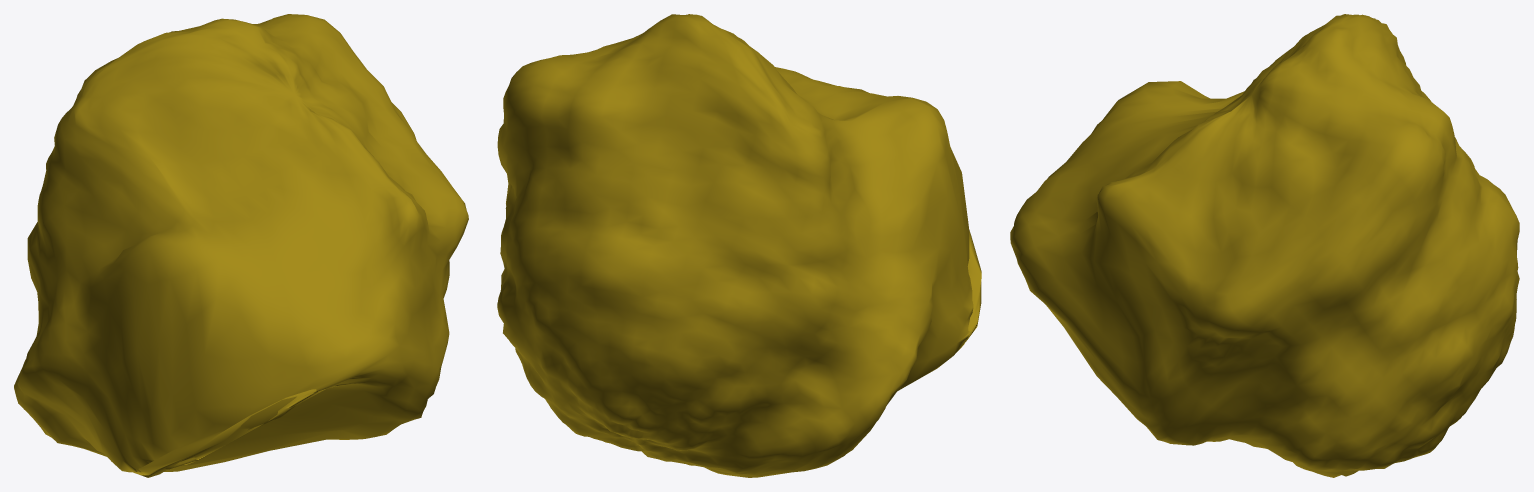
File: asteroid.fbx
3 views of the same model, side by side, from view 1: azimuth 30°, elevation 25°; view 2: azimuth 150°, elevation 25°; view 3: azimuth 270°, elevation 25° (orthographic).
Parts seen in each view (by area): view 1: Sphere; view 2: Sphere; view 3: Sphere.
Part boxes in pixels (bbox=[...]): Sphere: bbox=[14, 14, 468, 477]; Sphere: bbox=[497, 14, 981, 477]; Sphere: bbox=[1010, 14, 1519, 477].
Bounding box in the file's own units: 7.3 × 7.48 × 8.03.
